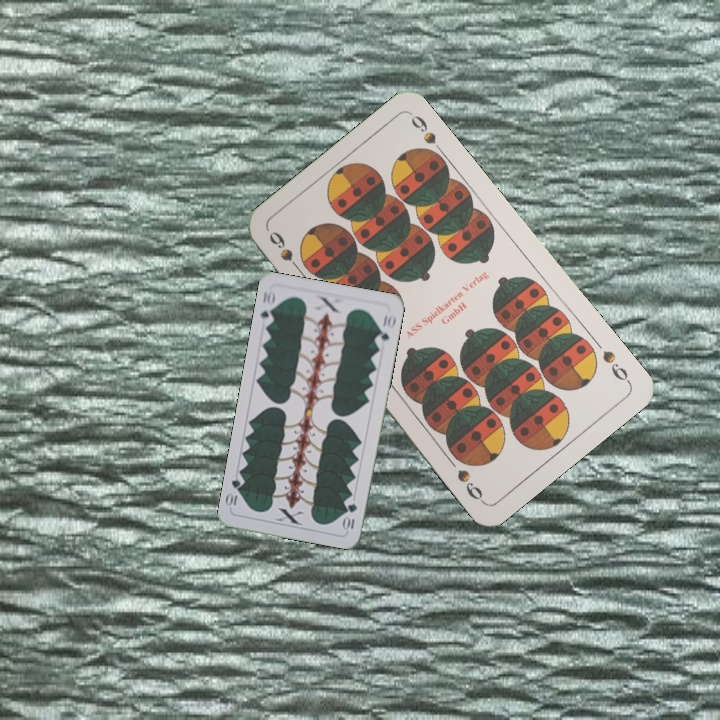G10: (256, 286, 278, 327), (340, 499, 360, 532)
S9: (265, 227, 307, 278), (598, 346, 633, 386)
